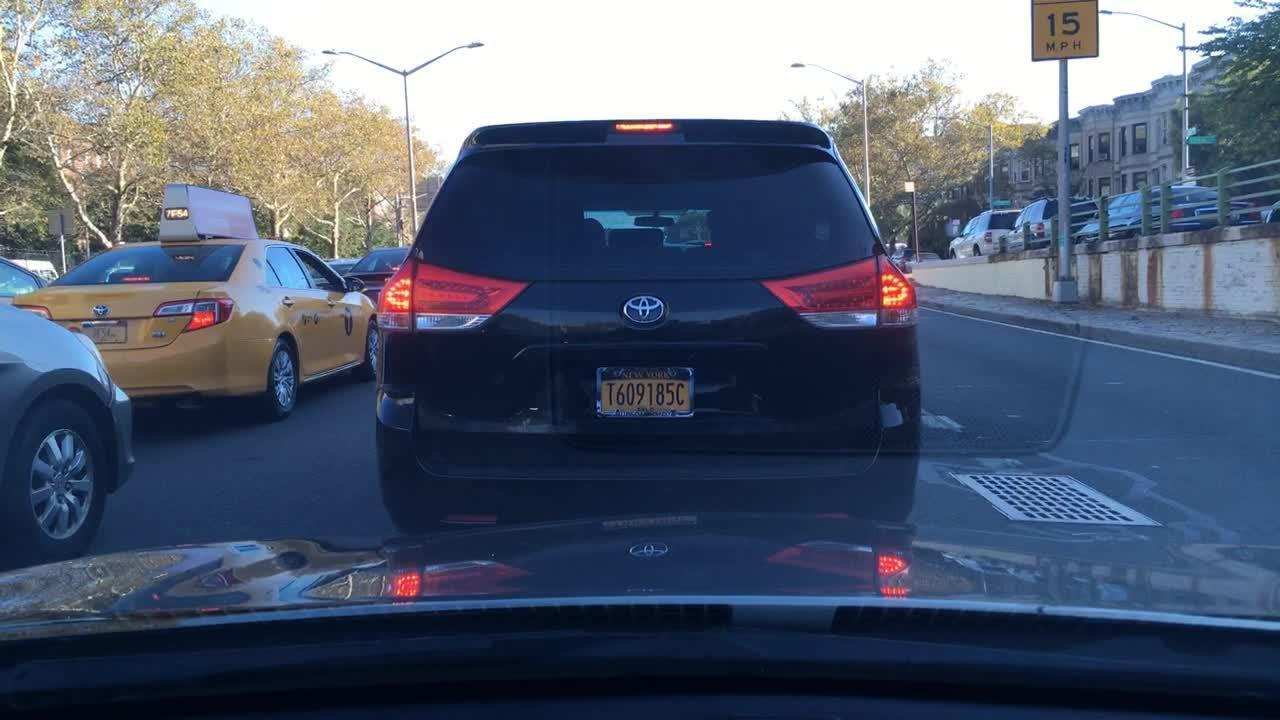Toyota: (606, 281, 688, 350), (82, 291, 119, 324)
